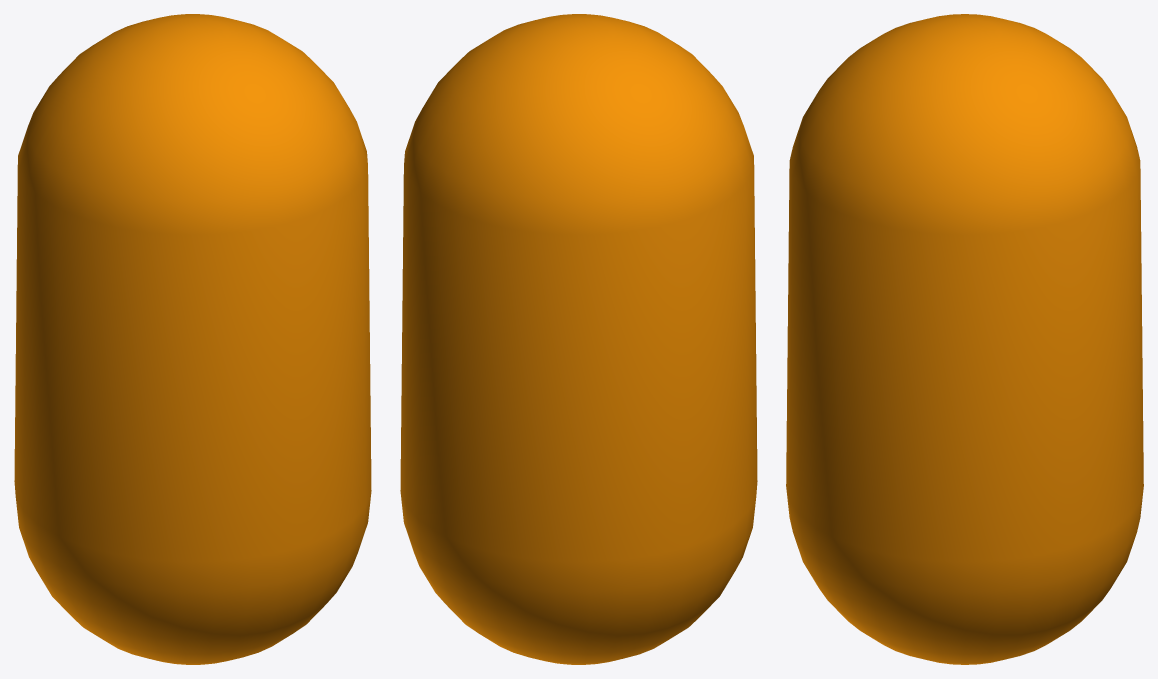
The model's file is StartingCapsule.glb.
3 renders of one model, left to right at view 1: azimuth 30°, elevation 25°; view 2: azimuth 150°, elevation 25°; view 3: azimuth 270°, elevation 25°, orthographic.
Parts seen in each view (by area): view 1: Sphere; view 2: Sphere; view 3: Sphere.
Boxes of the visible parts, bbox=[...] form: Sphere: bbox=[14, 14, 371, 664]; Sphere: bbox=[400, 14, 757, 664]; Sphere: bbox=[786, 14, 1143, 664].
Size of the model in its own units: 2 by 3.81 by 2.
